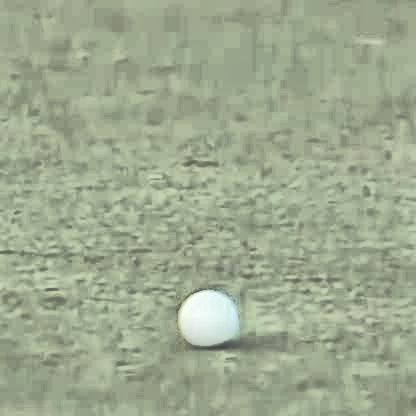golfball: (178, 285, 235, 342)
